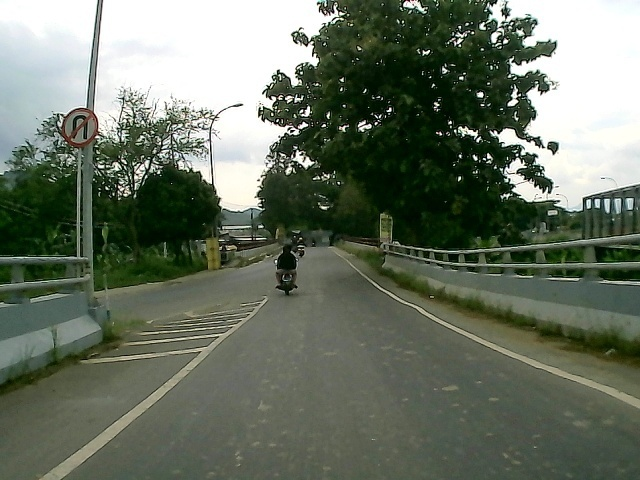Dilarang berbalik arah: (58, 106, 101, 149)
